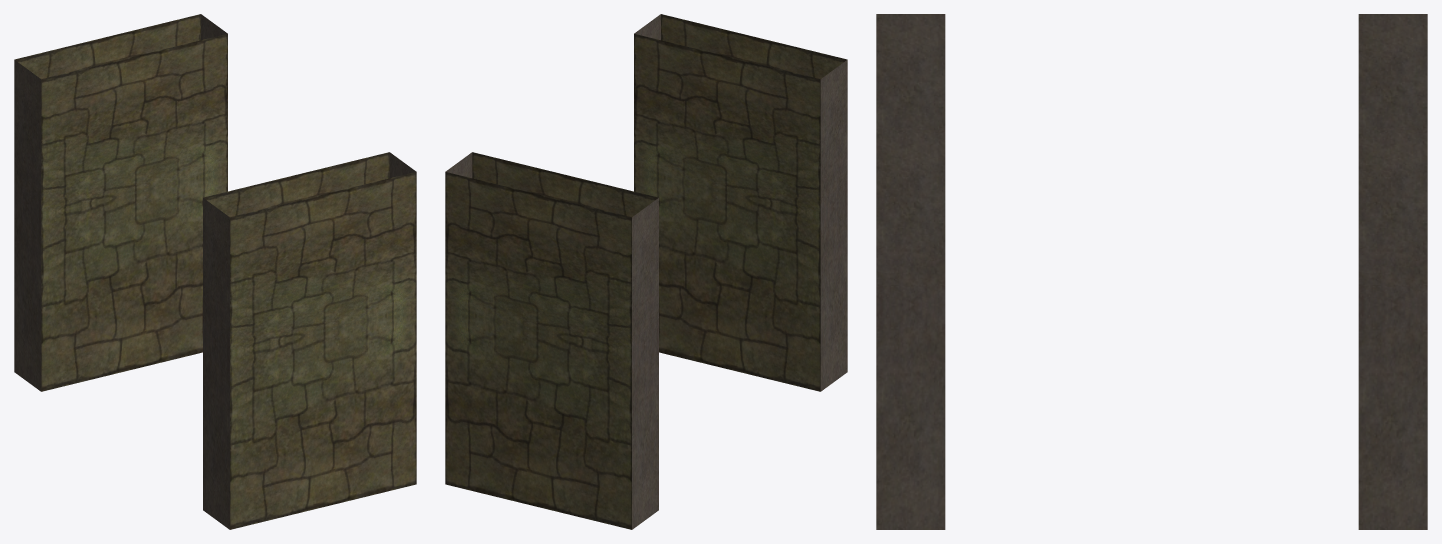
Rendered from ArcWall.fbx.
The picture shows the model from 3 angles, left to right: view 1: azimuth 30°, elevation 25°; view 2: azimuth 150°, elevation 25°; view 3: azimuth 270°, elevation 25°; orthographic projection. The views are drawn at different scales.
Parts seen in each view (by area): view 1: polySurface2; view 2: polySurface2; view 3: polySurface2.
Part boxes in pixels (left/top/right/bottom): polySurface2: left=14, top=14, right=416, bottom=529; polySurface2: left=445, top=14, right=847, bottom=529; polySurface2: left=876, top=14, right=1427, bottom=529.
Bounding box in the file's own units: 188 × 300 × 375.
